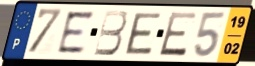5: (192, 11, 228, 60)
7: (26, 7, 64, 56)
B: (92, 9, 129, 57)
E: (157, 11, 199, 58), (124, 12, 164, 57), (56, 10, 96, 55)
